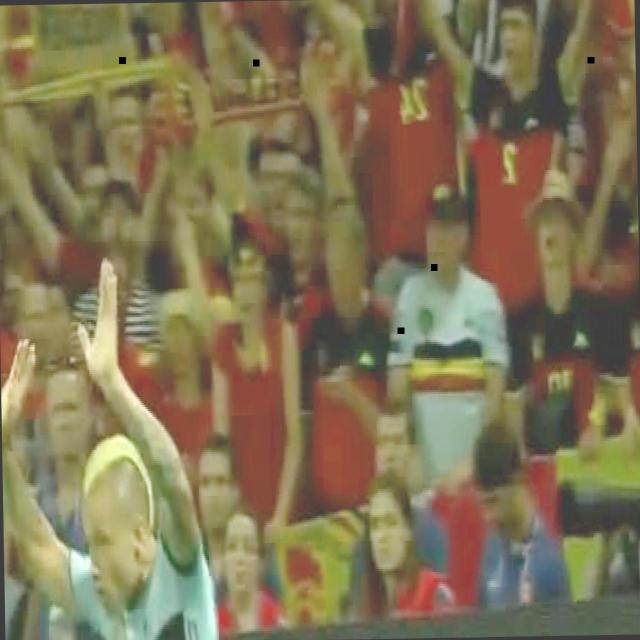player-white: (0, 257, 393, 640)
